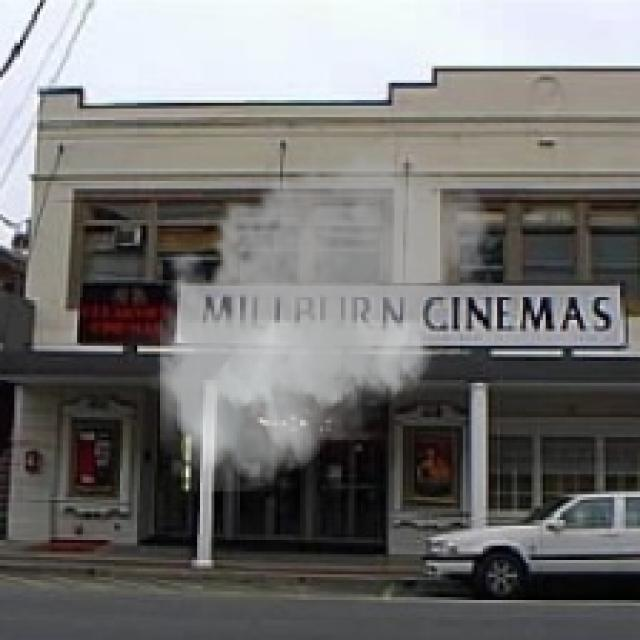Smoke: (146, 132, 497, 492)
